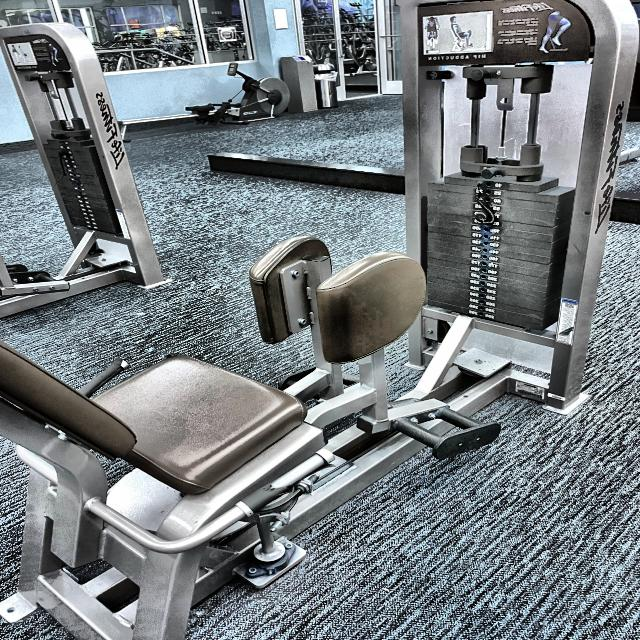hip_adduction_machine: (0, 236, 428, 628), (165, 232, 465, 493), (420, 15, 586, 68), (424, 52, 497, 66)
